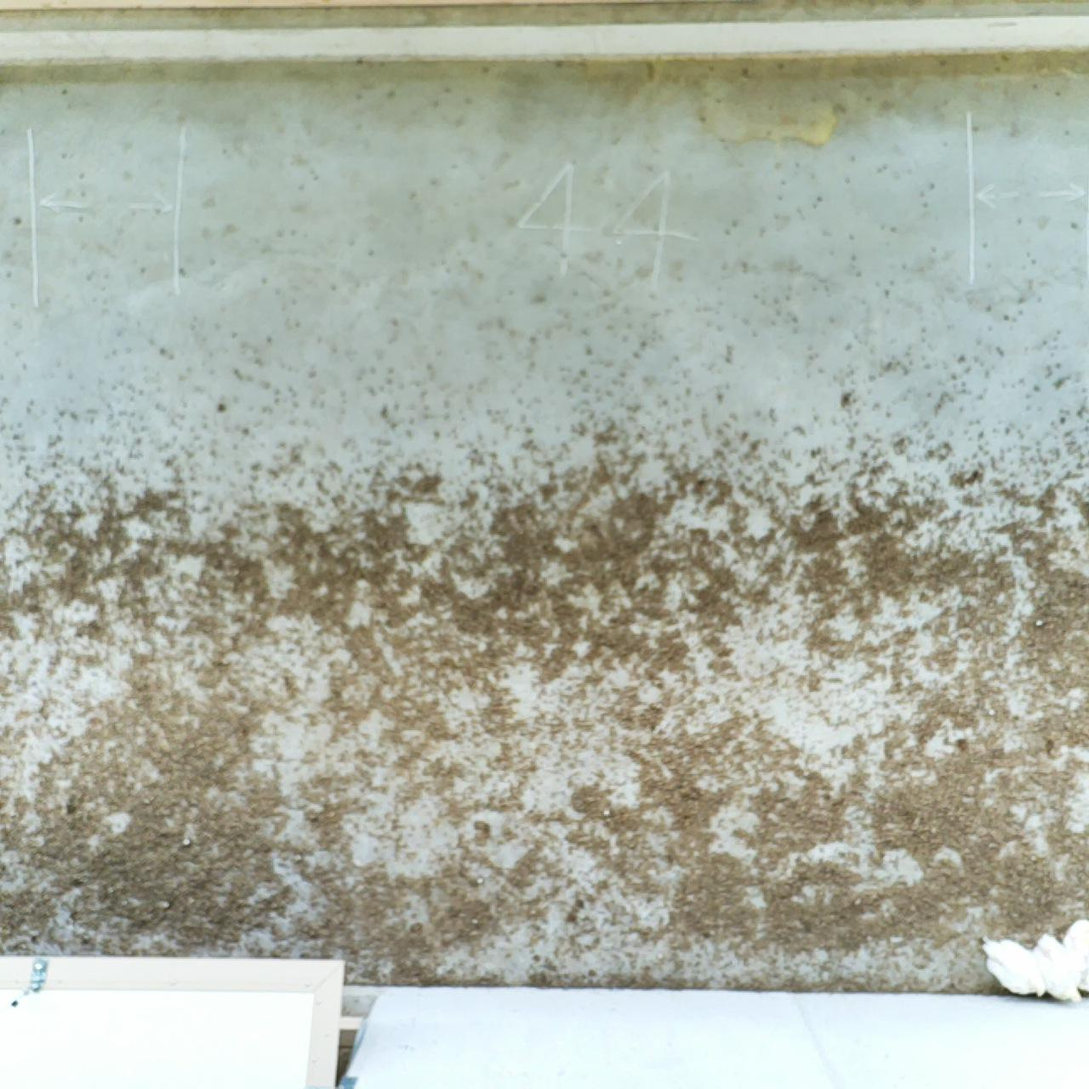chicken: (1022, 931, 1086, 1007), (976, 936, 1049, 998), (1058, 912, 1089, 995)
